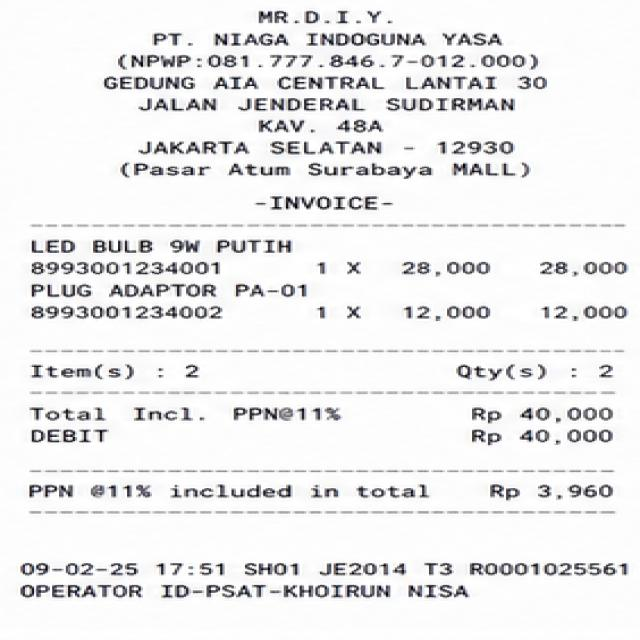date: (0, 556, 236, 580)
store: (245, 4, 402, 28)
total: (17, 401, 620, 427)
